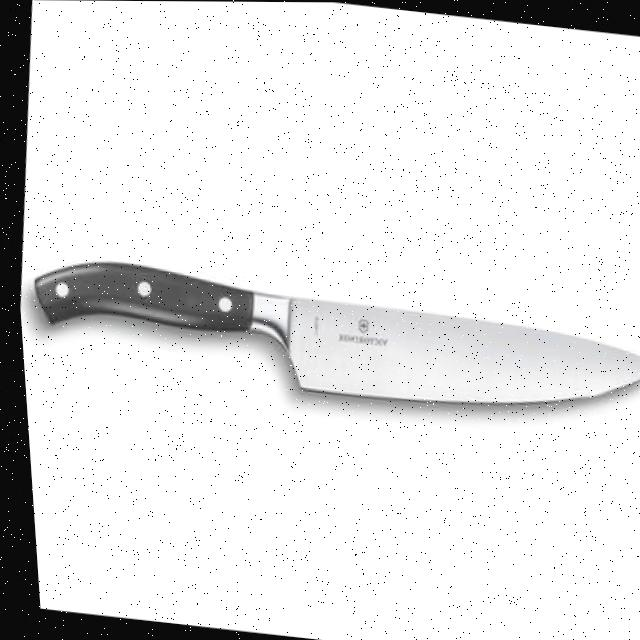knife: (20, 243, 640, 432)
